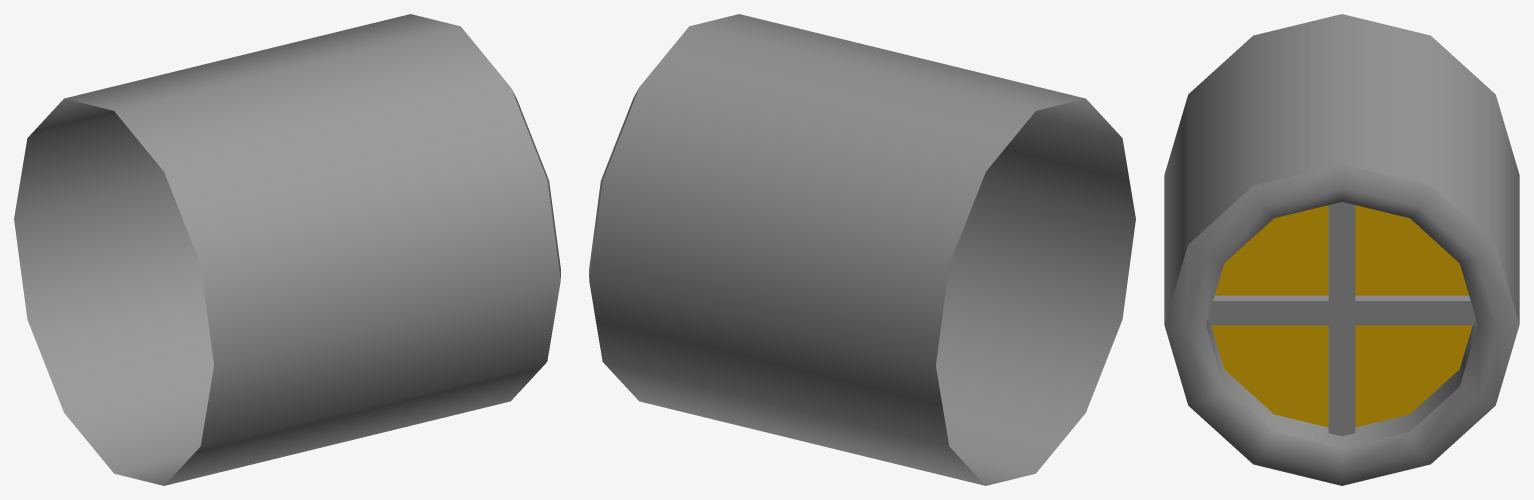
Rendered from Window Circle.fbx.
The picture shows the model from 3 angles, left to right: view 1: azimuth 30°, elevation 25°; view 2: azimuth 150°, elevation 25°; view 3: azimuth 270°, elevation 25°; orthographic projection. The views are drawn at different scales.
Parts seen in each view (by area): view 1: CircleWindow; view 2: CircleWindow; view 3: CircleWindow.
Part boxes in pixels (bbox=[...]): CircleWindow: bbox=[14, 14, 560, 485]; CircleWindow: bbox=[589, 14, 1135, 485]; CircleWindow: bbox=[1164, 14, 1519, 485].
Bounding box in the file's own units: 1.31 × 1.27 × 1.27.
